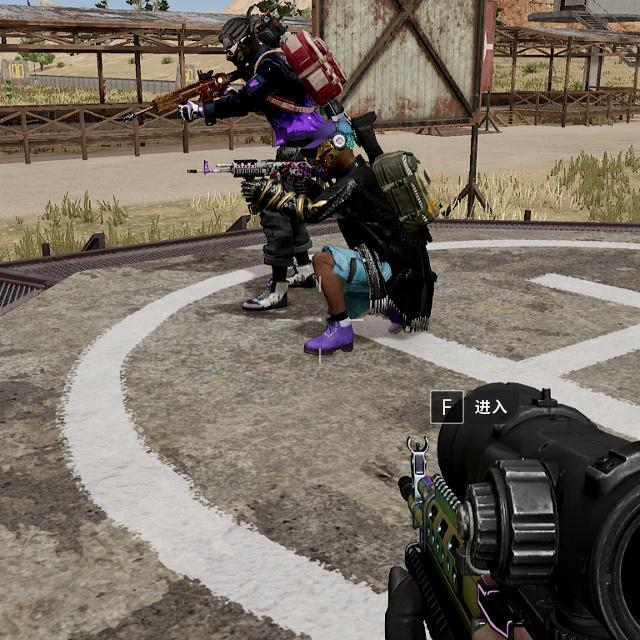head: (307, 119, 364, 178), (218, 16, 269, 73)
people: (194, 13, 327, 300), (297, 118, 444, 361)
